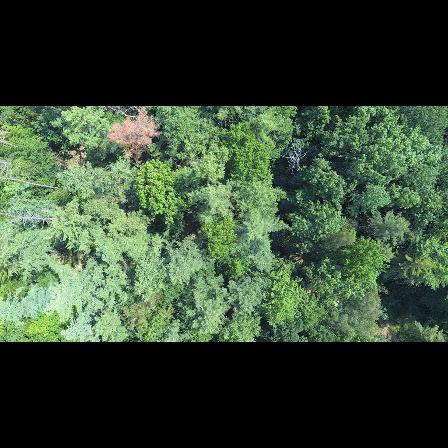Dead: (0, 165, 64, 192), (0, 203, 63, 228)
